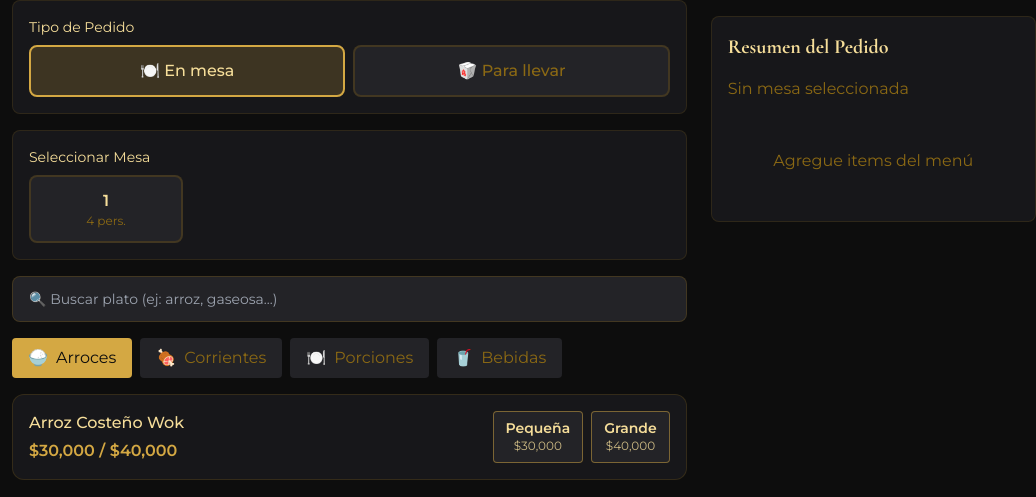
Test: busca platos en todas las categorías
This screenshot has width=1036, height=497.
Type "gaseosa" into the search field labelled "Buscar plato" at (349, 299), box [12,276,687,322]
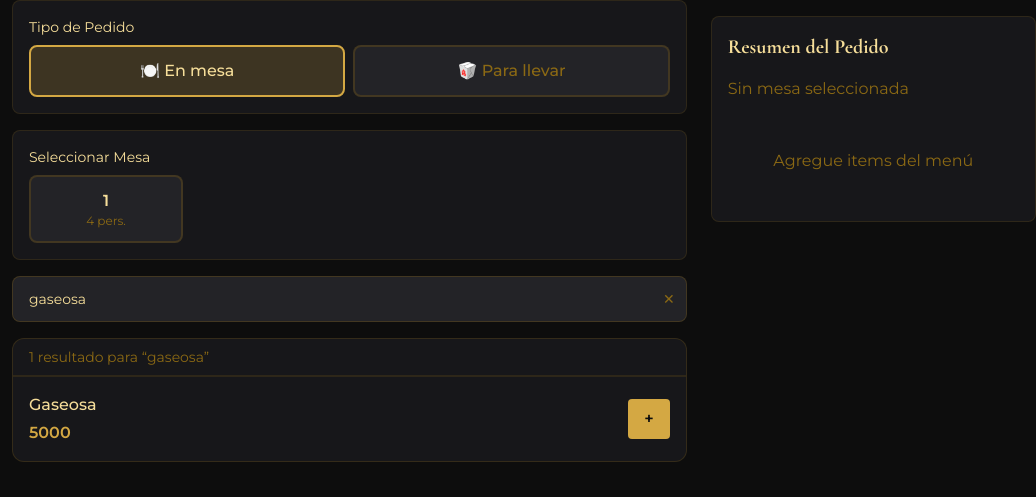
Check: the text "Gaseosa" is shown, box [29,395,96,414]
Check: the text "Arroz Costeño Wok" is gone
Check: the text "1 resultado para “gaseosa”" is shown, box [13,339,686,376]
Click the button named "Limpiar búsqueda" at (669, 299), box [663,289,675,309]
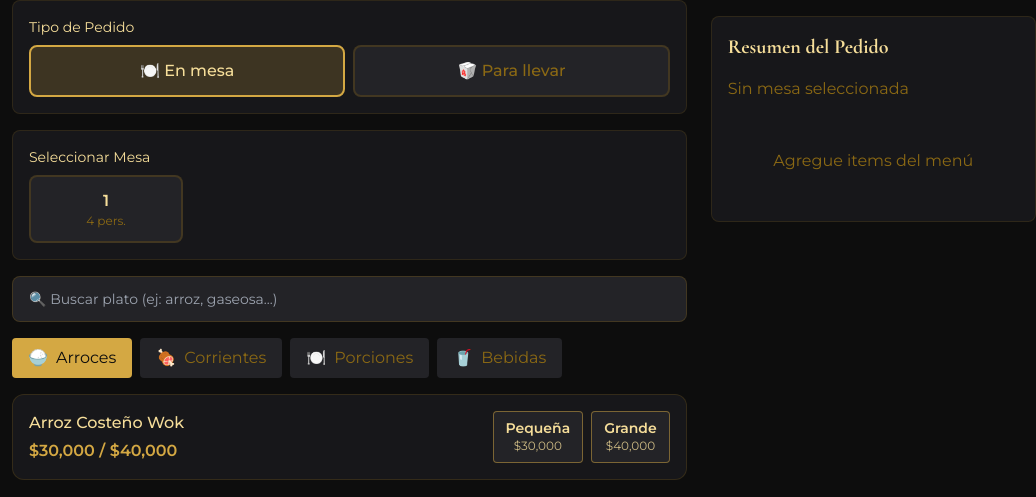
Check: the text "Arroz Costeño Wok" is shown, box [29,413,184,432]
Check: the text "Arroces" is shown, box [56,346,116,370]
